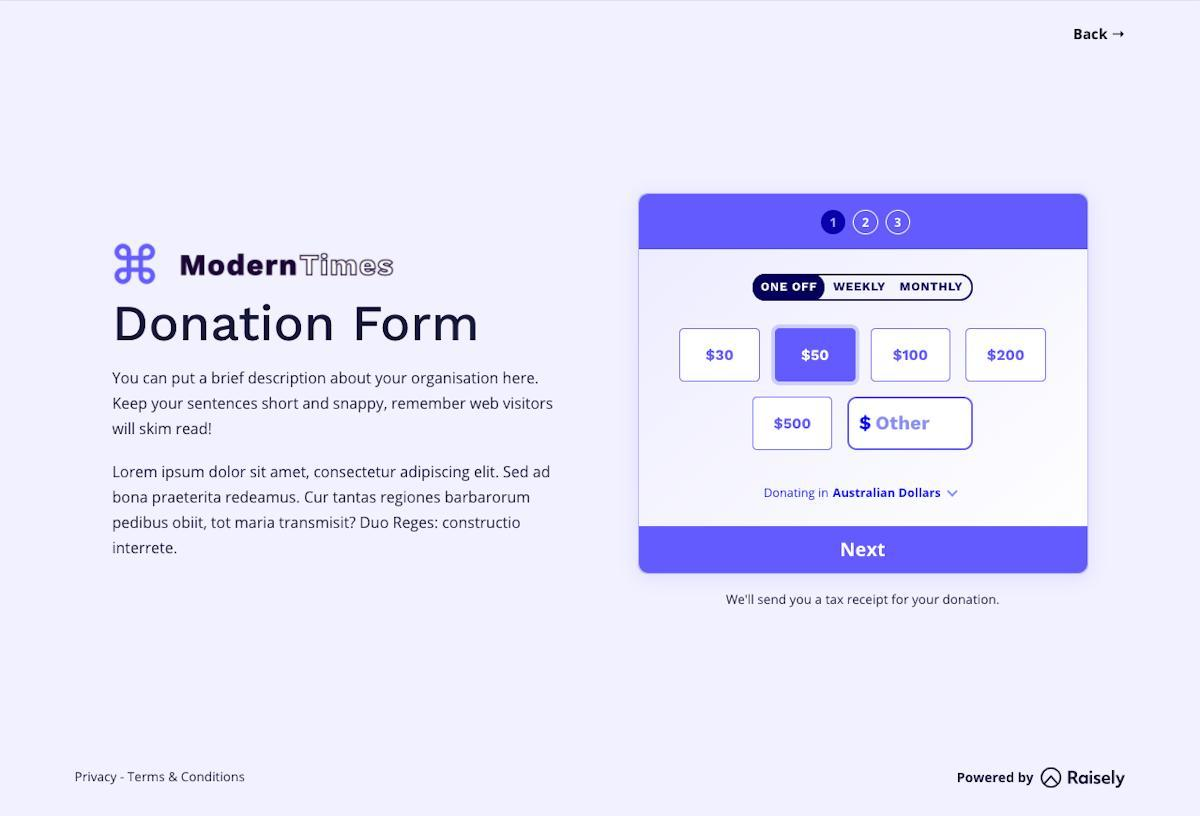button: (638, 526, 1088, 575), (775, 327, 858, 382), (871, 328, 948, 384), (682, 328, 761, 382), (968, 329, 1047, 381), (754, 400, 832, 451), (757, 277, 824, 300)
input: (849, 398, 975, 451)
label: (897, 280, 967, 298), (833, 279, 888, 297)
